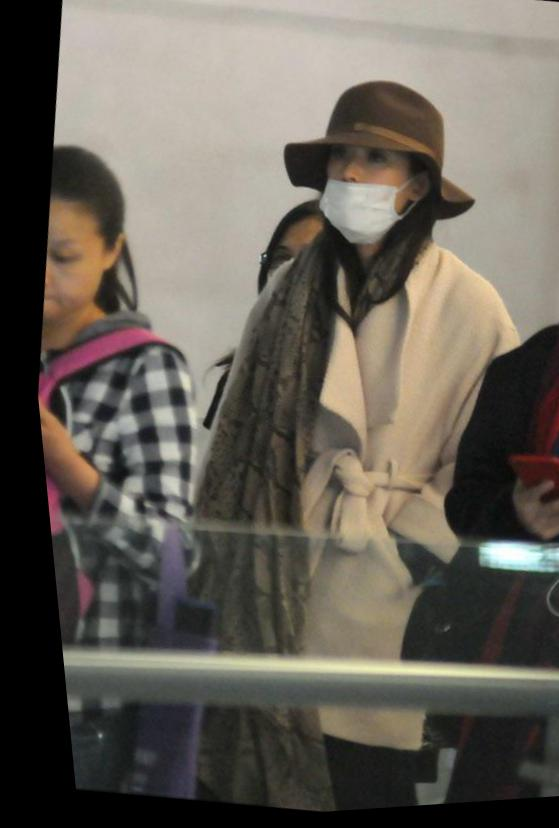NONE: (29, 209, 111, 330)
WRONG: (298, 132, 414, 246)
